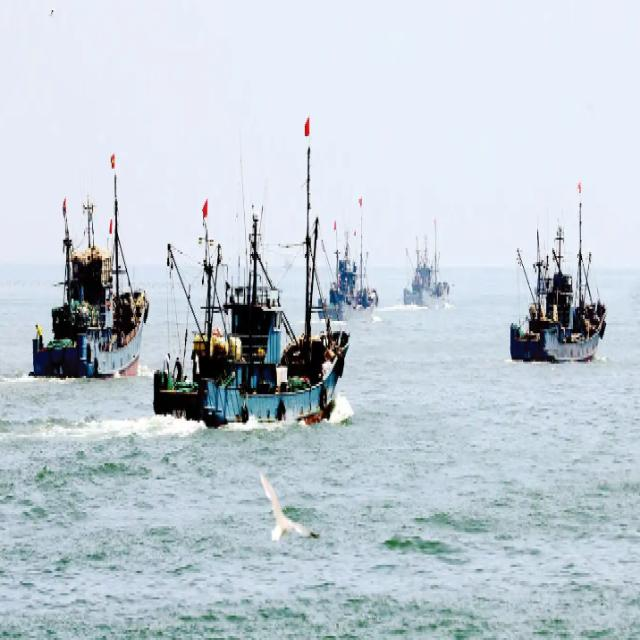fishing boat: (155, 152, 349, 422), (33, 144, 148, 385), (506, 199, 606, 360), (316, 190, 376, 314), (401, 214, 448, 302)
